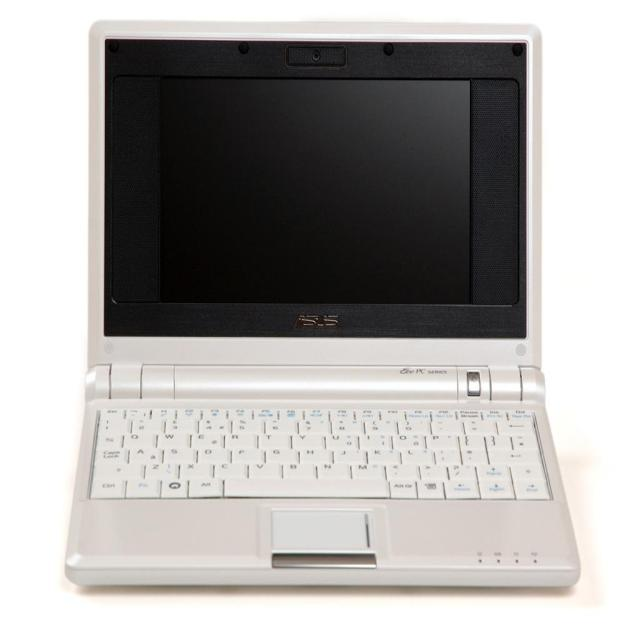laptop: (67, 26, 563, 597)
